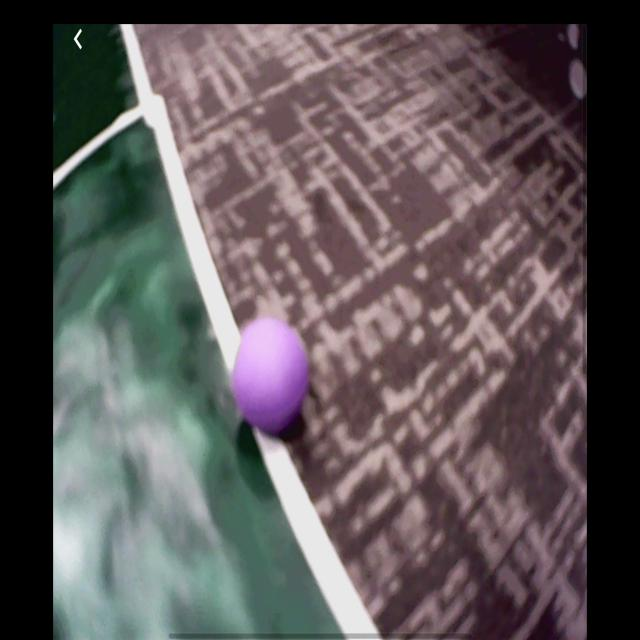ball: (231, 316, 311, 437)
